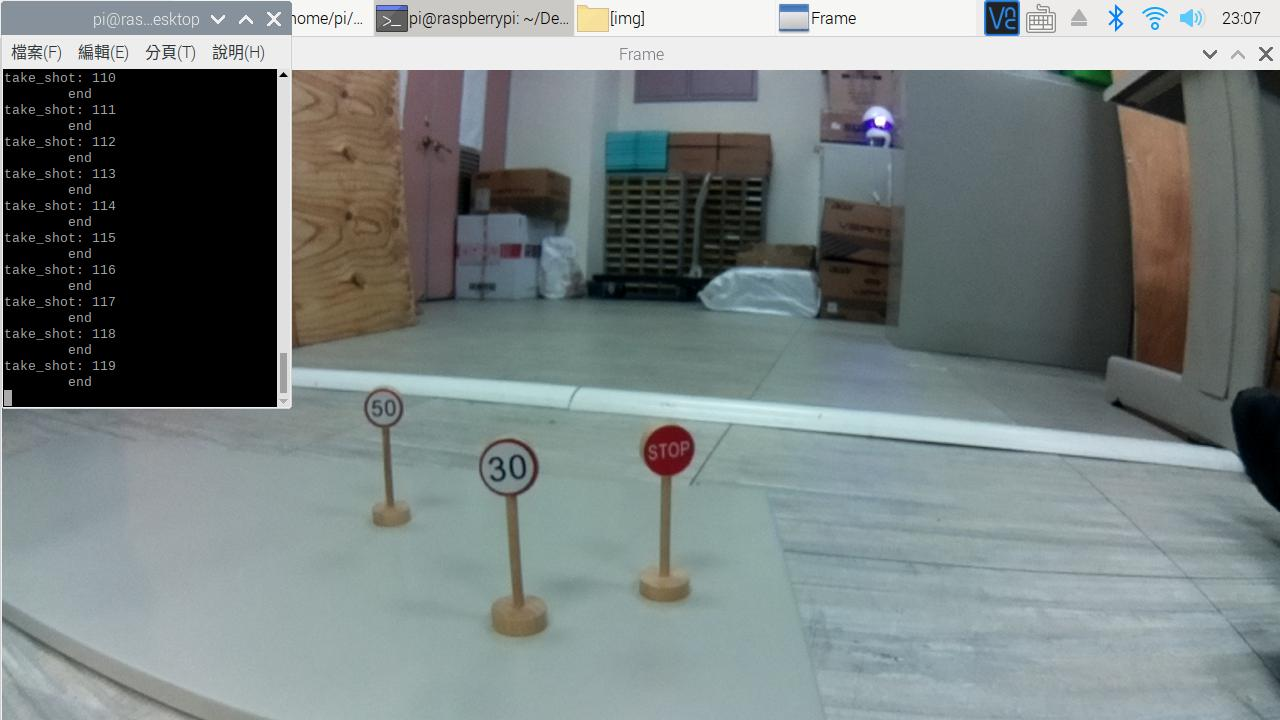Speed30: (465, 433, 560, 507)
Speed50: (351, 382, 414, 436)
Stop: (635, 412, 708, 486)
